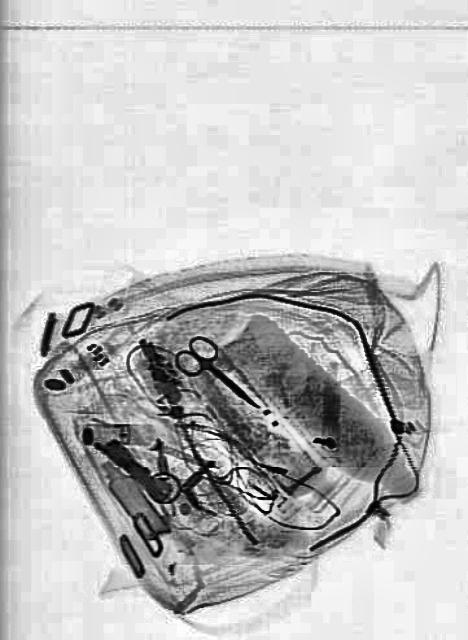Scissors: (169, 324, 267, 426)
